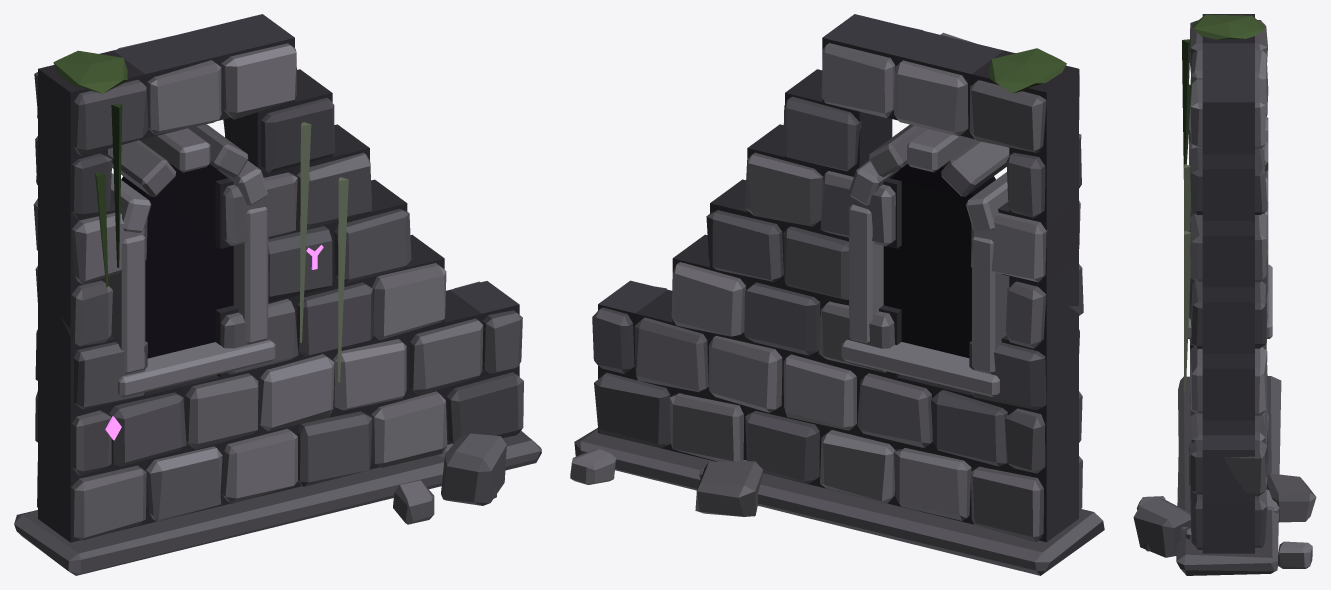
Rendered from ruin_wall.glb.
3 renders of one model, left to right at view 1: azimuth 30°, elevation 25°; view 2: azimuth 150°, elevation 25°; view 3: azimuth 270°, elevation 25°, orthographic. The views are drawn at different scales.
Visible parts, largest first — view 1: RuinWall; view 2: RuinWall; view 3: RuinWall.
Boxes of the visible parts, bbox=[...] form: RuinWall: bbox=[14, 14, 541, 575]; RuinWall: bbox=[570, 14, 1104, 575]; RuinWall: bbox=[1133, 14, 1316, 575].
Size of the model in its own units: 2.02 by 1.97 by 0.8315.
